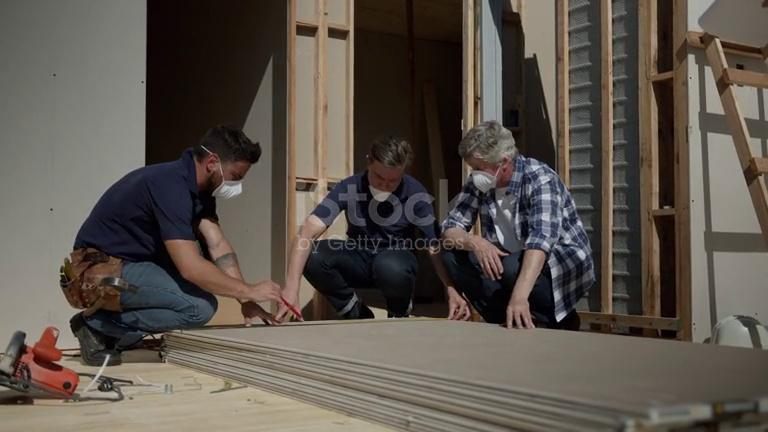mask: (213, 179, 244, 200), (471, 169, 496, 192), (368, 188, 394, 203)
person: (61, 126, 291, 366), (280, 136, 472, 324), (437, 122, 595, 329)
